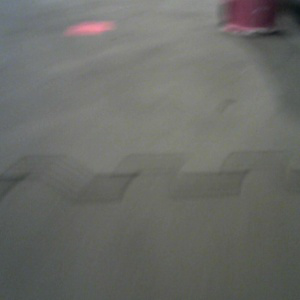Right: (218, 1, 279, 35)
